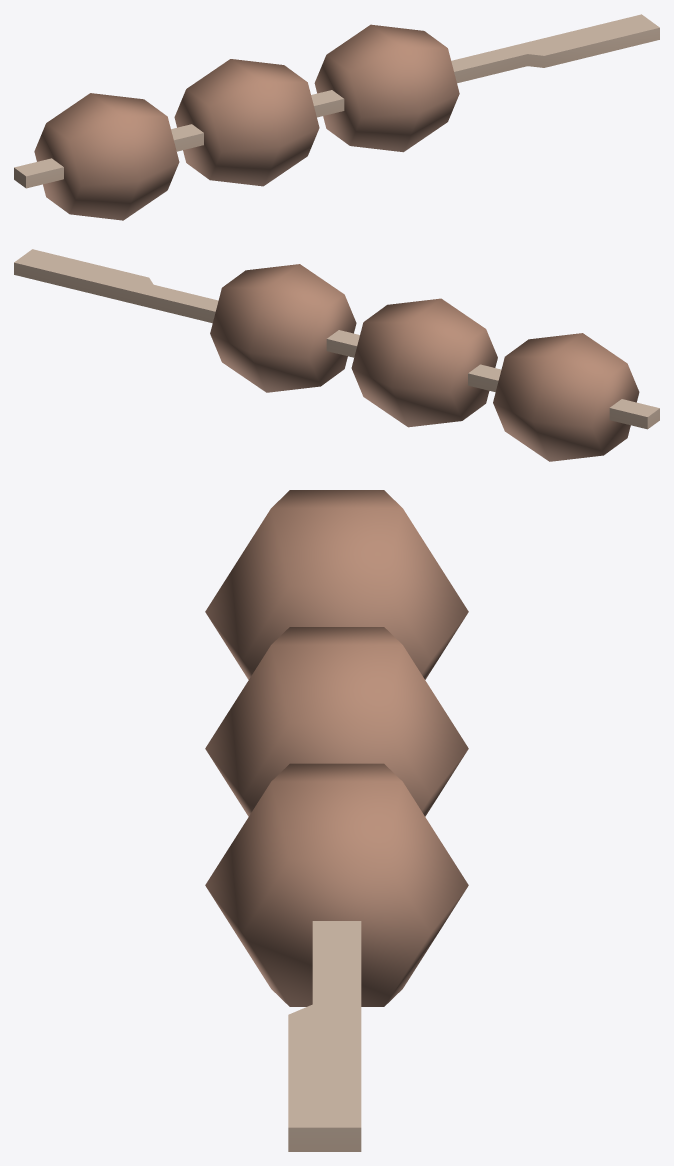
Rendered from skewer.glb.
The picture shows the model from 3 angles, top to bottom: view 1: azimuth 30°, elevation 25°; view 2: azimuth 150°, elevation 25°; view 3: azimuth 270°, elevation 25°; orthographic projection. The views are drawn at different scales.
Parts seen in each view (by area): view 1: skewer; view 2: skewer; view 3: skewer.
Part boxes in pixels (bbox=[...]): skewer: bbox=[14, 14, 659, 220]; skewer: bbox=[14, 249, 659, 461]; skewer: bbox=[205, 490, 468, 1151].
Size of the model in its own units: 0.5967 by 0.094 by 0.1085.
